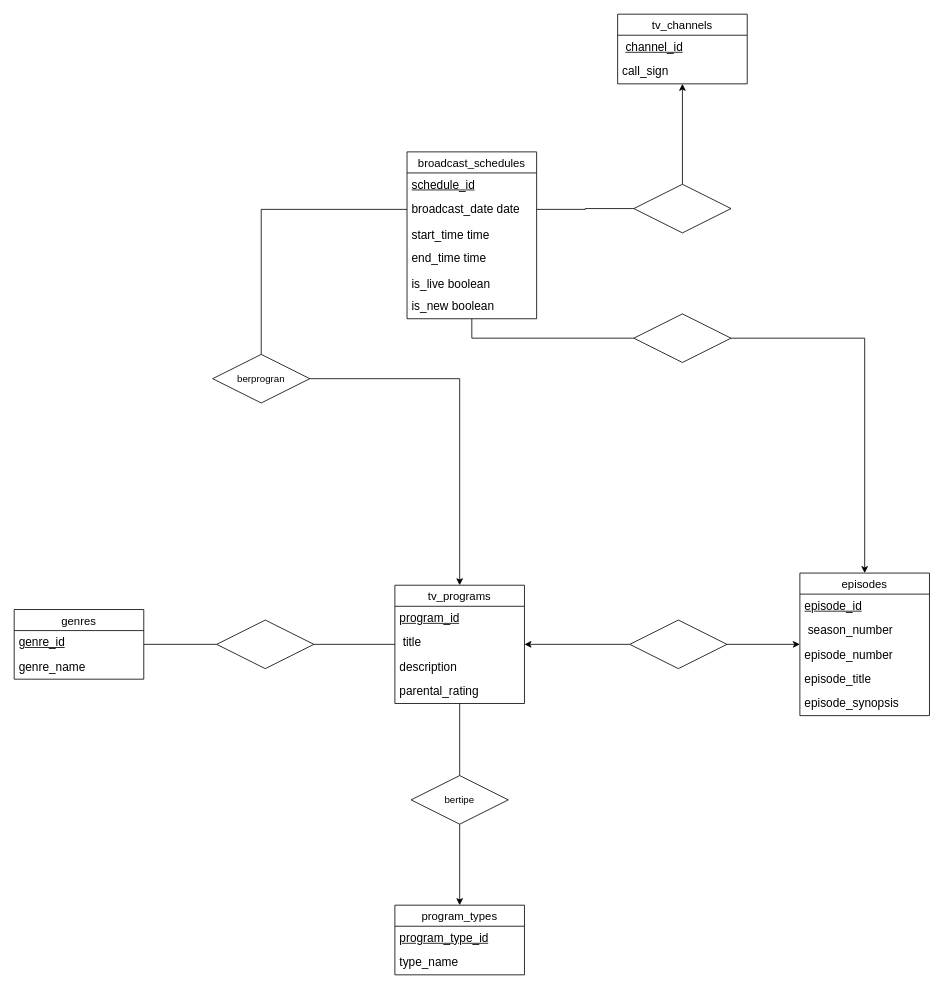
Image size: 944x991. Some labels were removed from this diagram. The centre of each missing label's shape, as x and y in pixels:
berchannel: the point at 682,208
Dijadwalkan pada: the point at 682,337
Dikelompokkan: the point at 265,644
Memiliki: the point at 678,644
